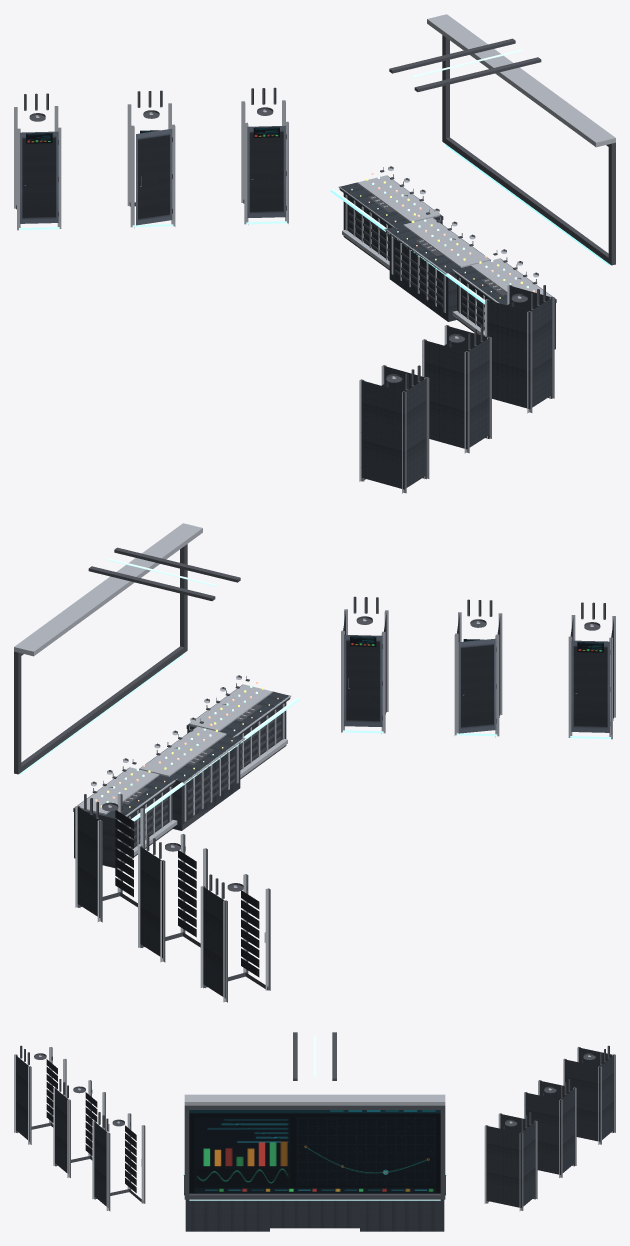
File: bridge_console_v2.glb
3 views of the same model, one above another, from view 1: azimuth 30°, elevation 25°; view 2: azimuth 150°, elevation 25°; view 3: azimuth 270°, elevation 25° (orthographic). The views are drawn at different scales.
Parts seen in each view (by area): view 1: Bridge_Body, Bridge_Trim, Rack_Doors, Bridge_Dark, Glow_Strips; view 2: Bridge_Trim, Bridge_Body, Rack_Doors, Bridge_Dark, Rack_Blades, Glow_Strips; view 3: Bridge_Body, Big_Display, Bridge_Trim, Bridge_Dark, Rack_Blades, Glow_Strips.
Boxes of the visible parts, box(x1,y1,x2,y2) form: Bridge_Body: box(339, 175, 556, 489); Bridge_Trim: box(14, 14, 615, 493); Rack_Doors: box(20, 125, 285, 225); Bridge_Dark: box(16, 35, 615, 481); Glow_Strips: box(19, 49, 610, 304); Bridge_Trim: box(14, 523, 615, 1002); Bridge_Body: box(73, 611, 613, 998); Rack_Doors: box(344, 634, 609, 733); Bridge_Dark: box(14, 544, 613, 990); Rack_Blades: box(115, 810, 259, 977); Glow_Strips: box(19, 558, 610, 821); Bridge_Body: box(16, 1047, 613, 1231); Big_Display: box(189, 1110, 440, 1193); Bridge_Trim: box(14, 1047, 615, 1211); Bridge_Dark: box(16, 1032, 613, 1203); Rack_Blades: box(46, 1059, 583, 1192); Glow_Strips: box(183, 1035, 446, 1200).
Bounding box in the file's own units: 7.78 × 4.88 × 15.34.
14 materials, 5 textured.
